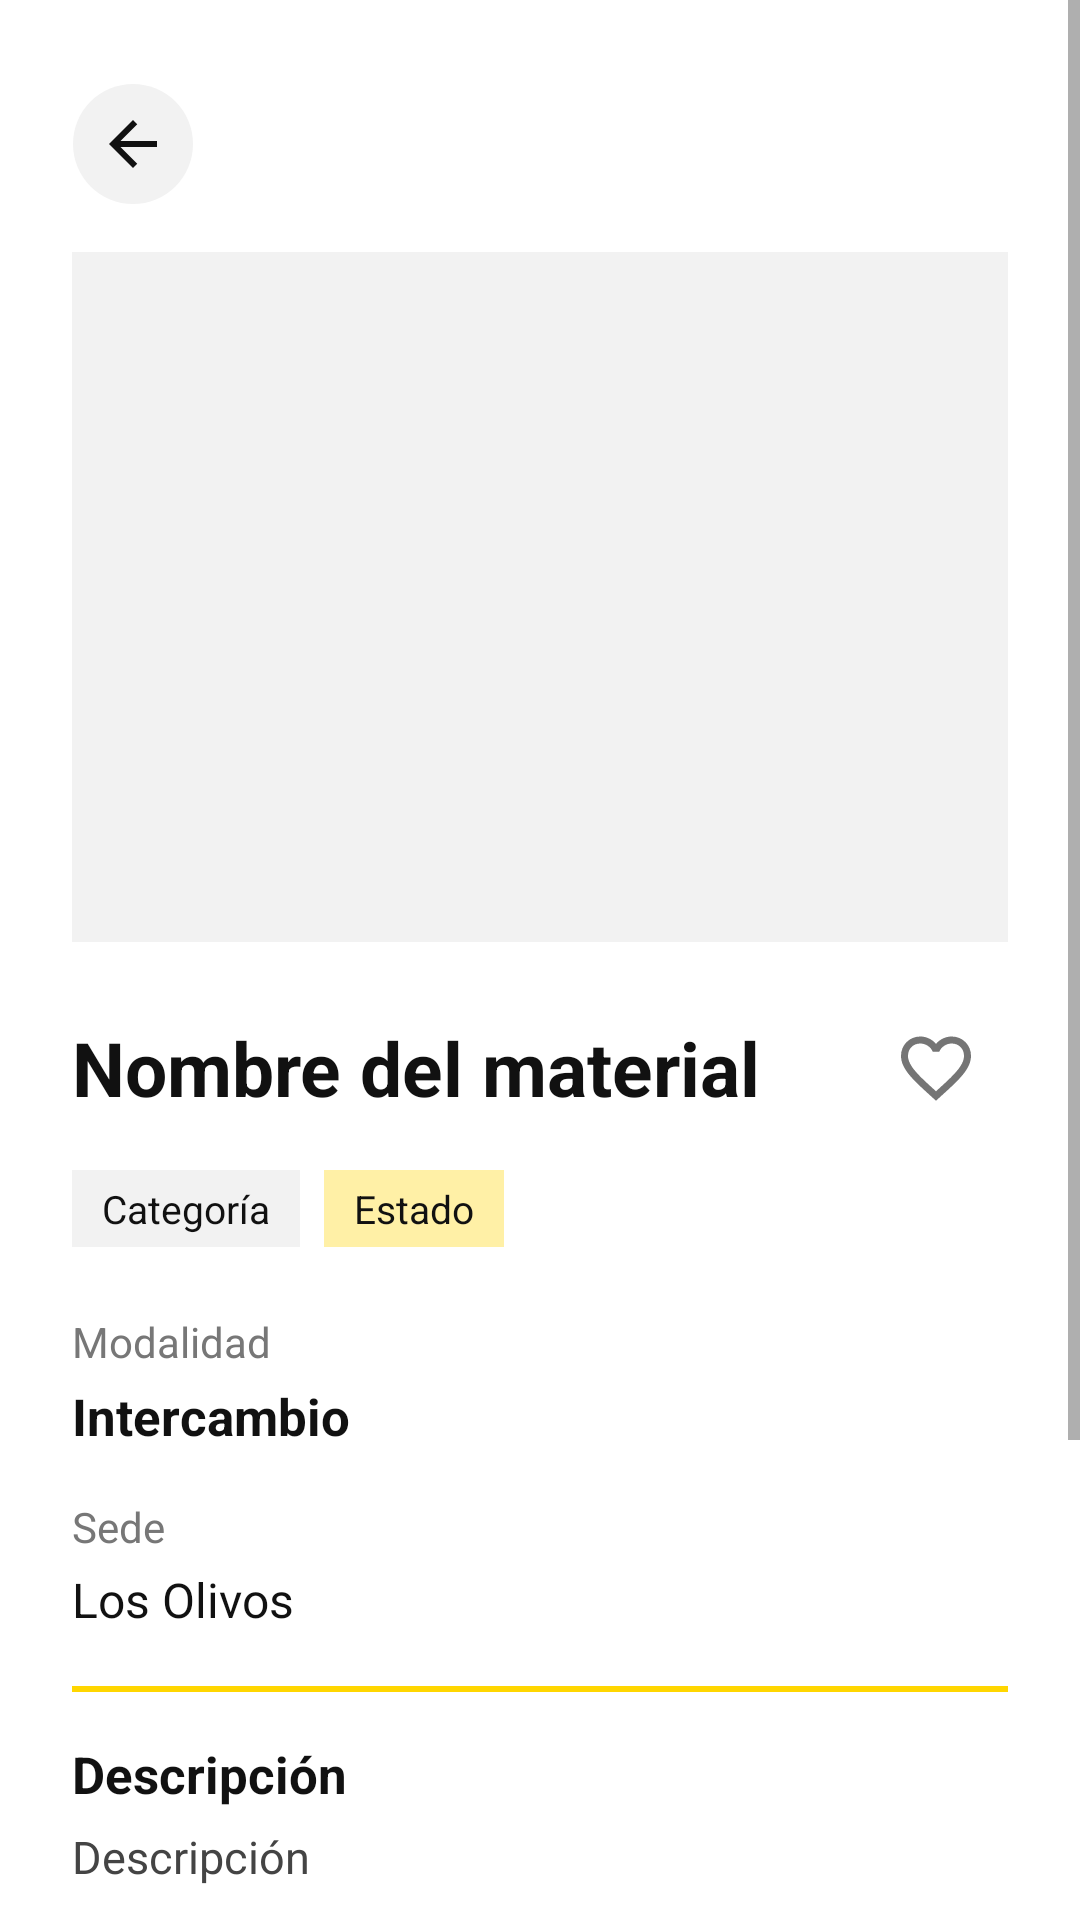

Icons on this 1080w x 1920h Android screen, each with its box as (x1, y1, x2, y2):
Agregar a favoritos: (901, 1036, 971, 1101)
Regresar: (73, 84, 193, 204)
